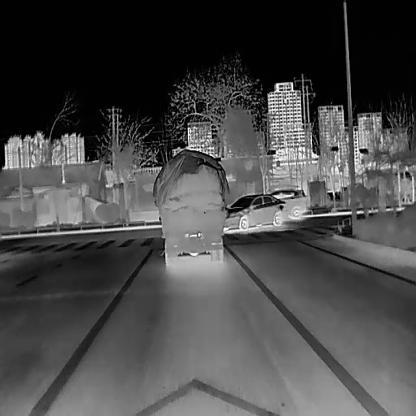car: (153, 147, 229, 265), (224, 193, 284, 231), (269, 188, 307, 219), (309, 179, 326, 208)
